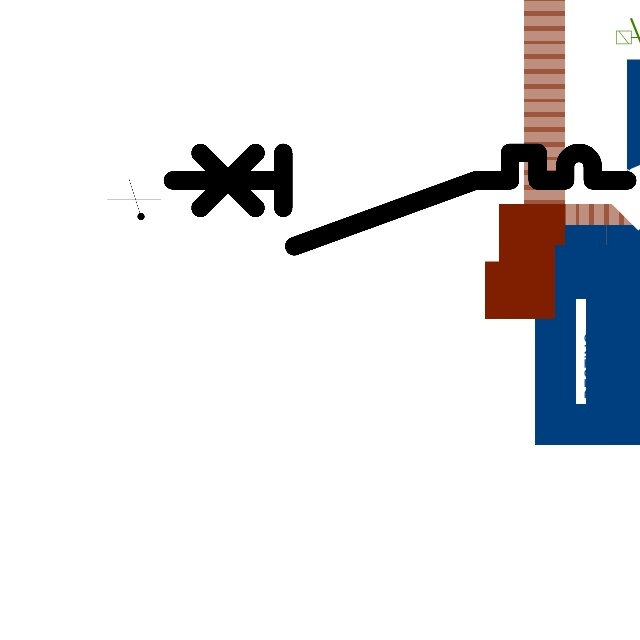interruptor_termomagnetico: (161, 141, 639, 258)
